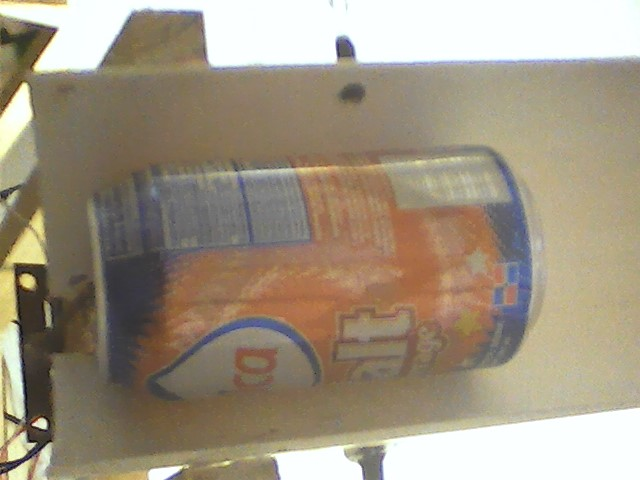lata: (80, 140, 548, 406)
